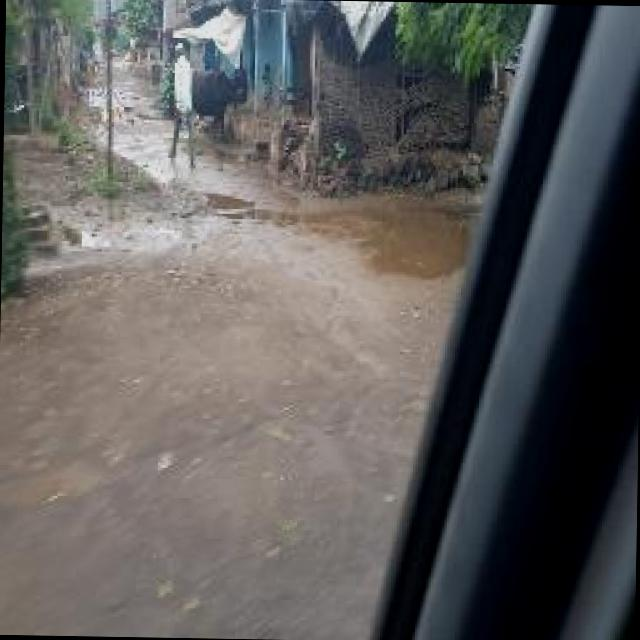stagnation: (118, 156, 469, 238)
